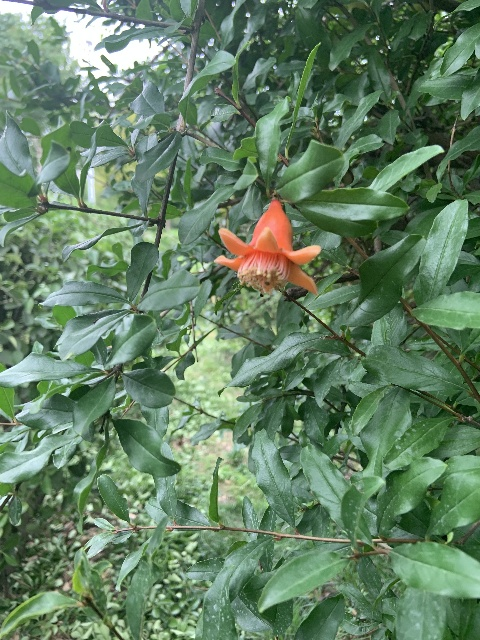flower: (213, 198, 320, 296)
